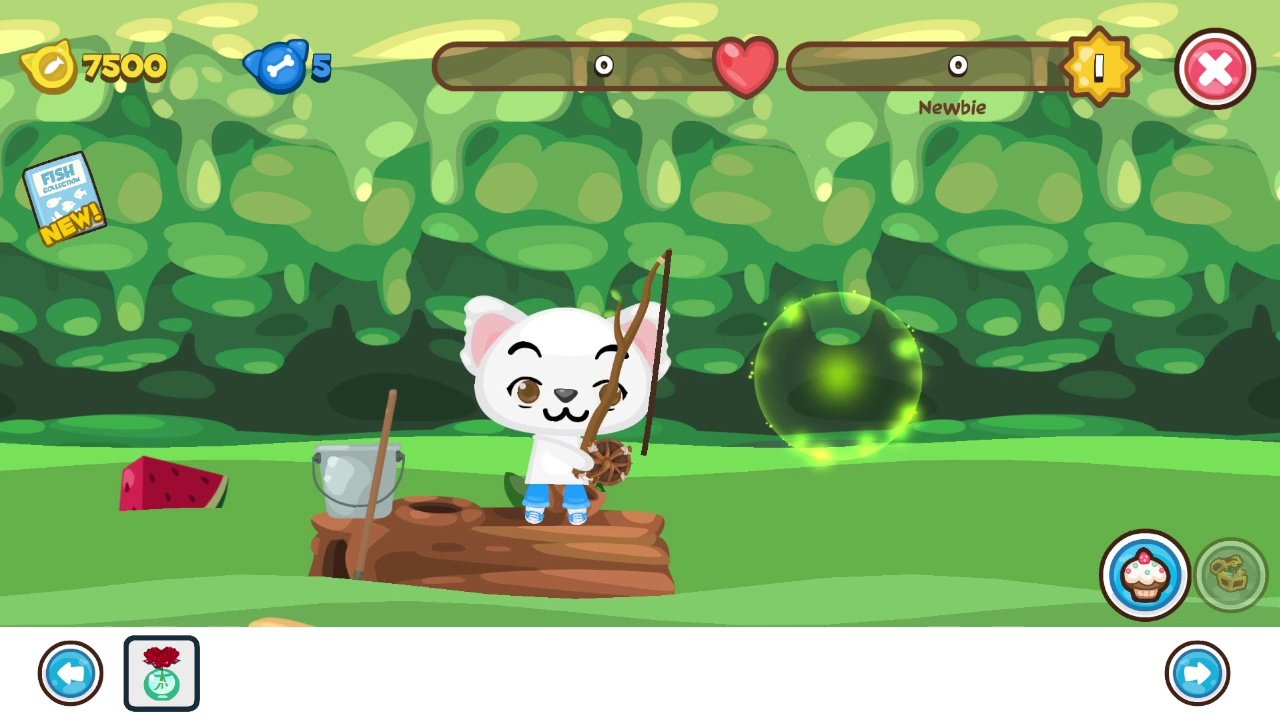point: (756, 291, 922, 461)
